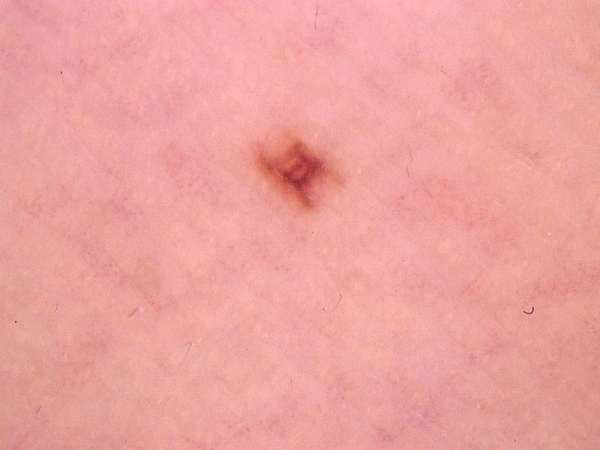Detected Lesion: (244, 123, 350, 214)
